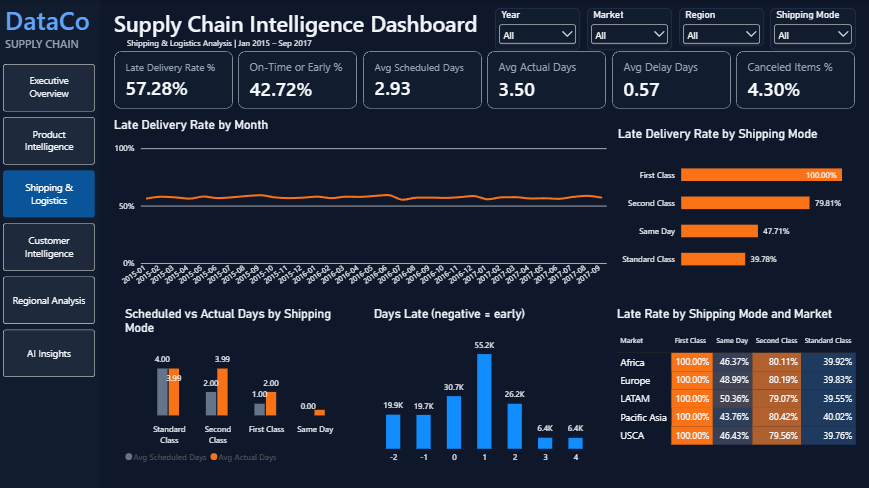

Layout of this report page (visuals, bound fields, positions):
{"tool":"powerbi","page":{"name":"Shipping & Logistics","canvas":[1280,720],"ordinal":2},"visuals":[{"type":"shape","box":[0,0,150,720],"z":0},{"type":"textbox","box":[10,4.4,136.1,62.6],"z":1000},{"type":"textbox","box":[10,52.9,136.1,41],"z":2000},{"type":"textbox","box":[170,12,600,50],"z":3000},{"type":"cardVisual","fields":{"Data":["Table.On-Time or Early %"]},"box":[353,75,175,85],"z":4000},{"type":"cardVisual","fields":{"Data":["Table.Avg Scheduled Days"]},"box":[536,75,175,85],"z":5000},{"type":"cardVisual","fields":{"Data":["Table.Avg Actual Days"]},"box":[719,75,175,85],"z":6000},{"type":"cardVisual","fields":{"Data":["Table.Avg Delay Days"]},"box":[902,75,175,85],"z":7000},{"type":"cardVisual","fields":{"Data":["Table.Canceled Items %"]},"box":[1085,75,175,85],"z":8000},{"type":"cardVisual","fields":{"Data":["Table.Late Delivery Rate %"]},"box":[170,75,175,85],"z":9000},{"type":"slicer","title":"Year","fields":{"Values":["Calender.Year"]},"box":[730.3,11.8,124.9,61.7],"z":10000},{"type":"slicer","title":"Year","fields":{"Values":["DataCo.Market"]},"box":[865.5,11.8,124.9,61.7],"z":11000},{"type":"slicer","title":"Year","fields":{"Values":["DataCo.Order Region"]},"box":[1000.7,11.8,124.9,55.8],"z":12000},{"type":"slicer","title":"Year","fields":{"Values":["DataCo.Shipping Mode"]},"box":[1134.4,11.8,126.4,61.7],"z":13000},{"type":"lineChart","title":"Late Delivery Rate by Month","fields":{"Category":["Calendar.Year Month"],"Y":["Table.Late Delivery Rate %"]},"box":[170.4,171.9,724.4,252.7],"z":14000},{"type":"clusteredBarChart","title":"Late Delivery Rate by Shipping Mode","fields":{"Category":["DataCo.Shipping Mode"],"Y":["Table.Late Delivery Rate %"]},"box":[894.9,171.9,385,252.7],"z":15000},{"type":"pageNavigator","box":[7.3,94,135,462.9],"z":16000},{"type":"clusteredColumnChart","title":"Days Late (negative = early)","fields":{"Category":["DataCo.Delay Days"],"Y":["Table.Order Items"]},"box":[536,436,358,264],"z":17000},{"type":"pivotTable","title":"Late Rate by Shipping Mode and Market","fields":{"Rows":["DataCo.Market"],"Values":["Table.Late Delivery Rate %"],"Columns":["DataCo.Shipping Mode"]},"box":[893.4,436.4,386.4,263],"z":18000},{"type":"clusteredColumnChart","title":"Scheduled vs Actual Days by Shipping Mode","fields":{"Y":["Table.Avg Scheduled Days","Table.Avg Actual Days"],"Category":["DataCo.Shipping Mode"]},"box":[170,436,358,264],"z":19000},{"type":"textbox","box":[189.6,52.9,293.9,30.9],"z":20000}]}

Visuals, with their boxes in screenshot pixels (x1, y1, x2, y2), scaled from the page's 1280x720 canvas onto the 869x488 screenshot:
shape: 0/0/102/487
textbox: 7/3/99/45
textbox: 7/36/99/64
textbox: 115/8/523/42
cardVisual - Table.On-Time or Early %: 240/51/358/108
cardVisual - Table.Avg Scheduled Days: 364/51/483/108
cardVisual - Table.Avg Actual Days: 488/51/607/108
cardVisual - Table.Avg Delay Days: 612/51/731/108
cardVisual - Table.Canceled Items %: 737/51/855/108
cardVisual - Table.Late Delivery Rate %: 115/51/234/108
"Year" slicer: 496/8/581/50
"Year" slicer: 588/8/672/50
"Year" slicer: 679/8/764/46
"Year" slicer: 770/8/856/50
"Late Delivery Rate by Month" lineChart: 116/117/607/288
"Late Delivery Rate by Shipping Mode" clusteredBarChart: 608/117/868/288
pageNavigator: 5/64/97/377
"Days Late (negative = early)" clusteredColumnChart: 364/296/607/474
"Late Rate by Shipping Mode and Market" pivotTable: 607/296/868/474
"Scheduled vs Actual Days by Shipping Mode" clusteredColumnChart: 115/296/358/474
textbox: 129/36/328/57
